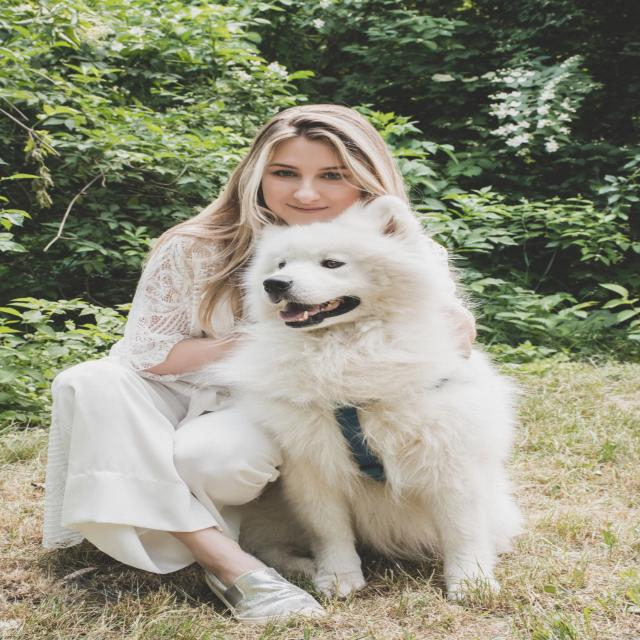adult: (51, 94, 371, 614)
